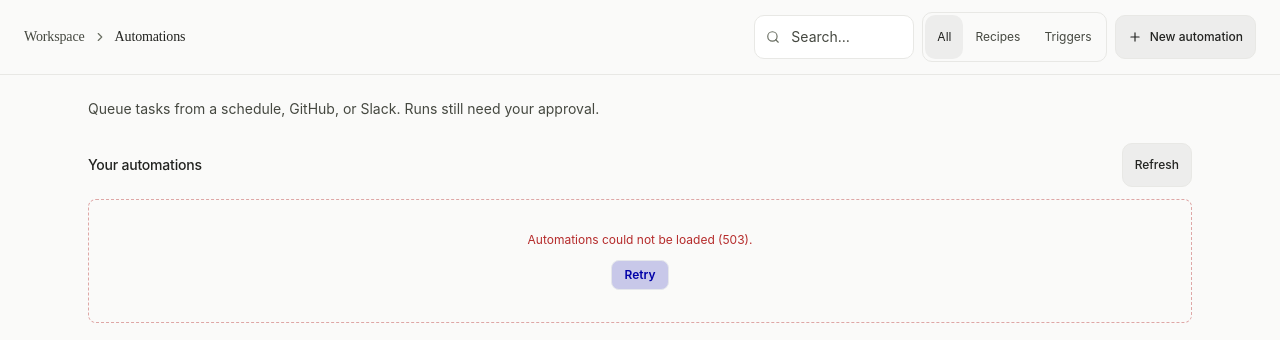
AutomationsView › shows load failures and retries
expect the text "Automations could not be loaded (503)." is shown: met, box [528, 232, 752, 248]
What coordinates should you click on to do the following:
click the button "Retry"
I would click on:
 (640, 275)
Its box is [612, 260, 668, 290].
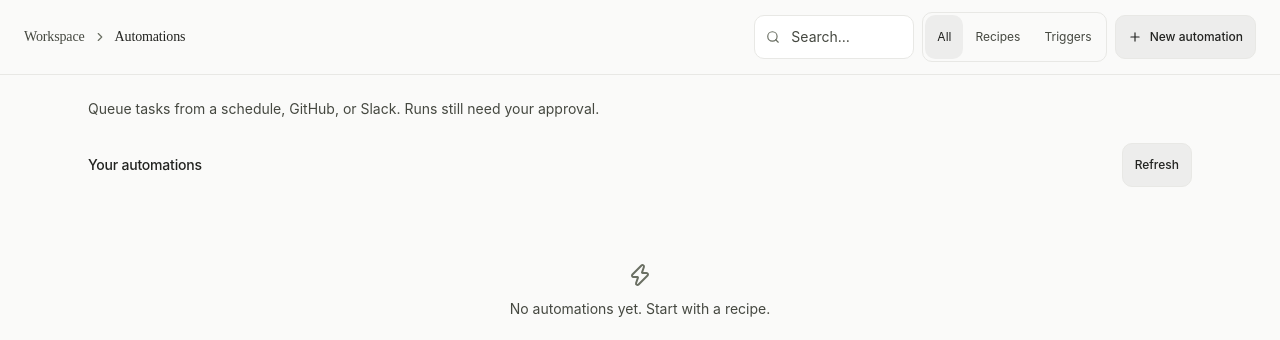
expect the text "No automations yet. Start with a recipe." is shown: met, box [510, 299, 770, 319]
